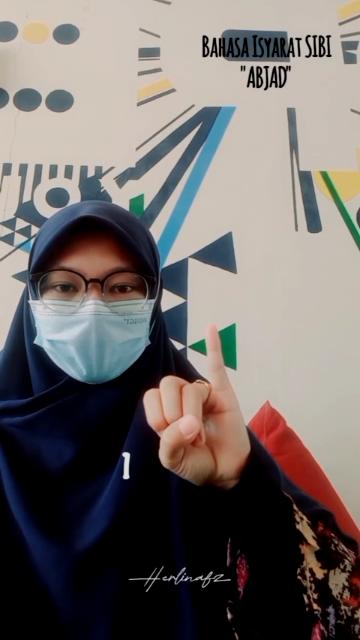I: (141, 320, 249, 480)
